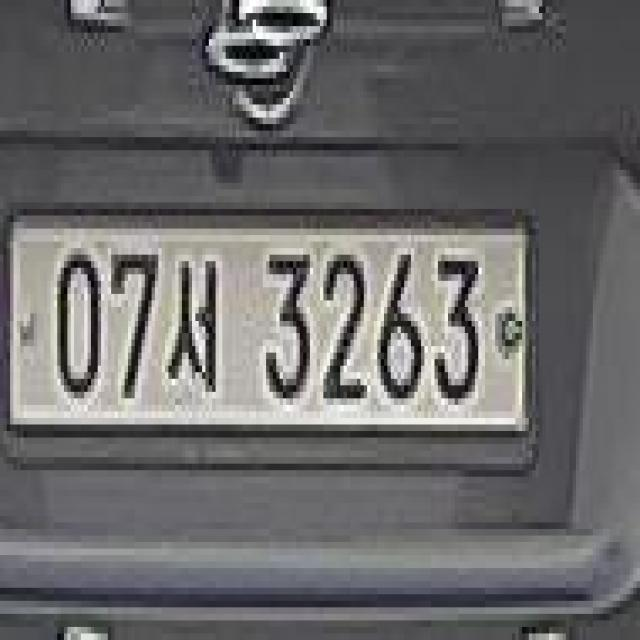illegal_plate: (11, 200, 537, 481)
